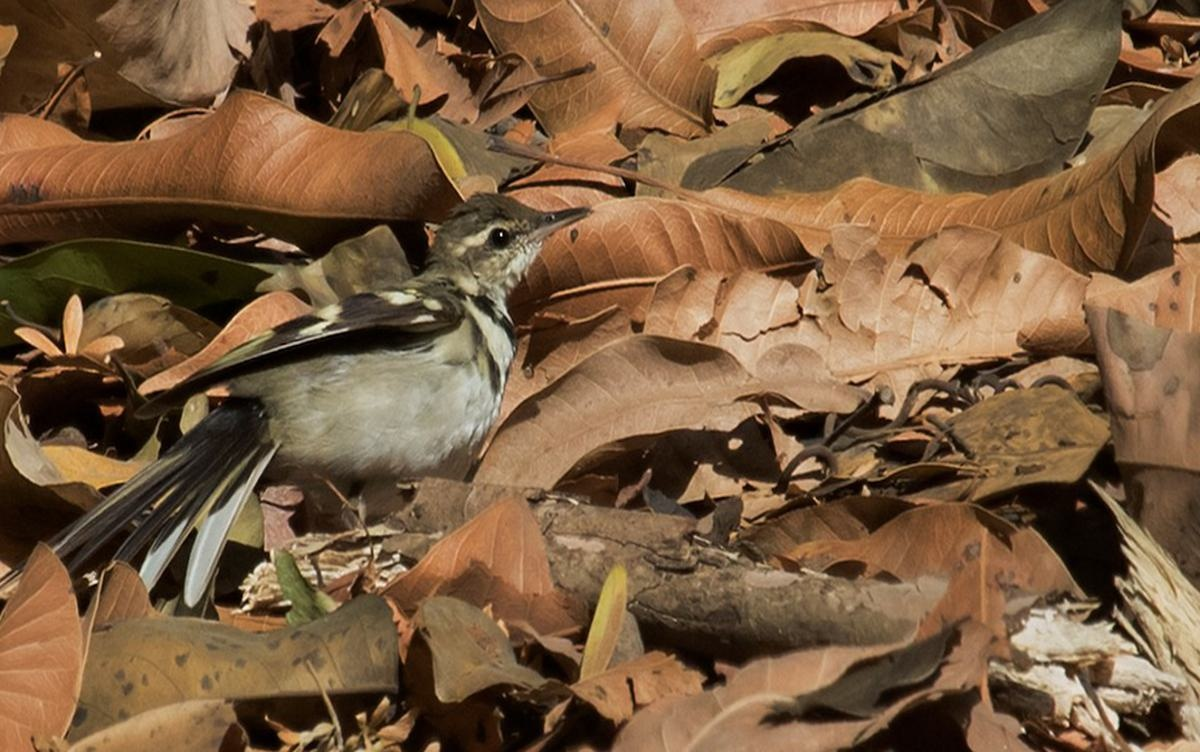wagtail: (100, 171, 605, 529)
